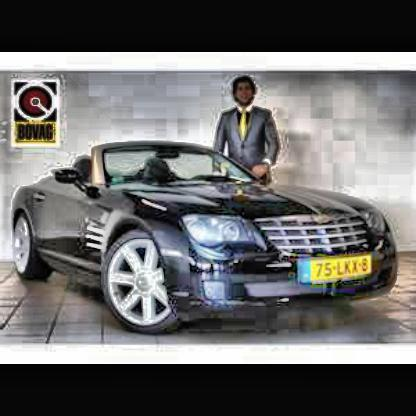Chrysler Crossfire Convertible 2008: (10, 138, 402, 337)
